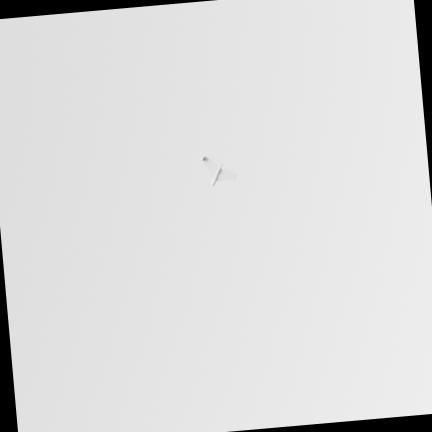Shahed: (202, 153, 239, 188)
